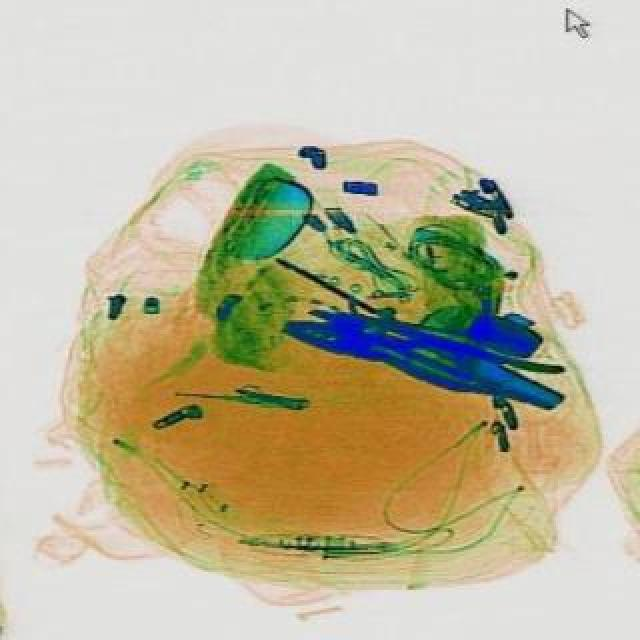wrench: (276, 298, 562, 414)
